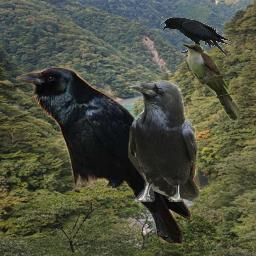Crow: (16, 67, 192, 246), (128, 80, 200, 202), (160, 17, 232, 57)
Cuckoo: (181, 42, 242, 122)
